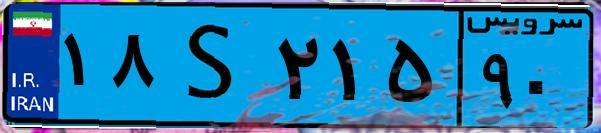0: (525, 38, 570, 115)
1: (330, 28, 385, 110), (57, 26, 110, 100)
2: (270, 28, 330, 110)
5: (385, 28, 445, 110)
8: (110, 28, 158, 98)
9: (475, 38, 525, 113)
S: (158, 12, 270, 120)
